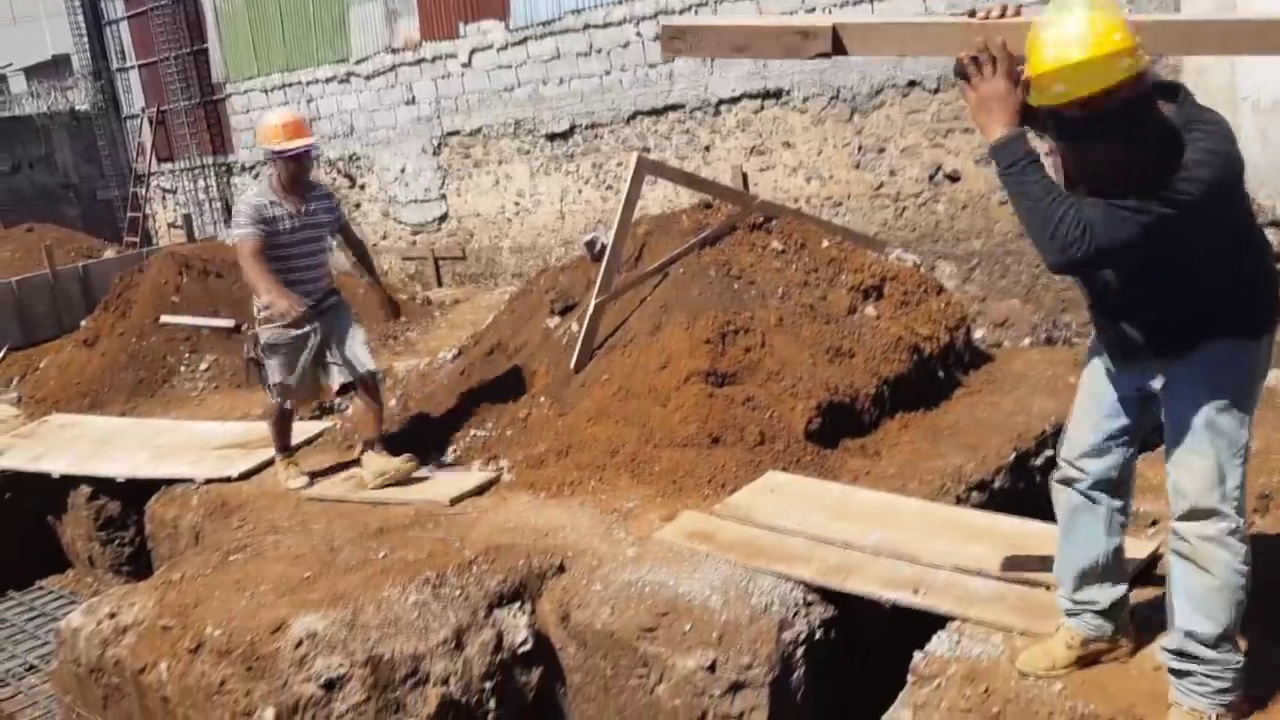helmet: (1011, 2, 1167, 113), (247, 100, 318, 160)
helmet-on: (1017, 0, 1169, 165), (249, 103, 324, 191)
person: (962, 0, 1273, 720), (228, 99, 377, 483)
